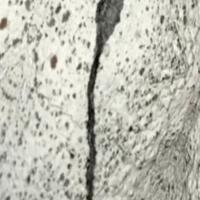crack: (67, 1, 146, 199)
